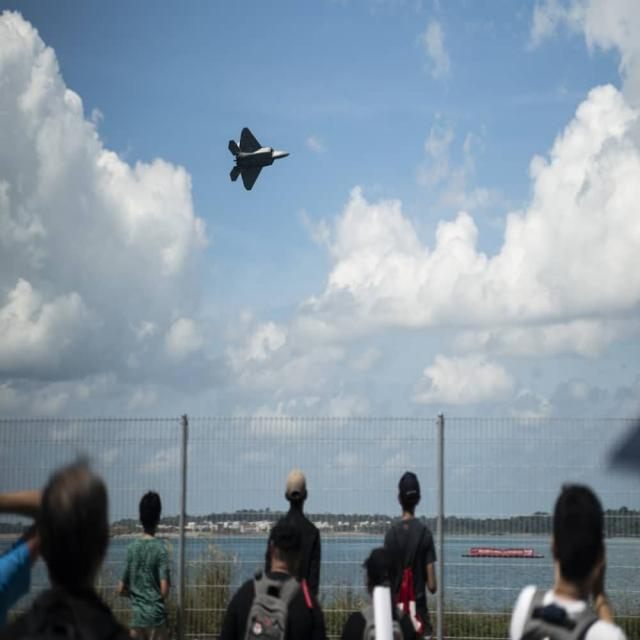MIL_Plane: (228, 127, 290, 191)
